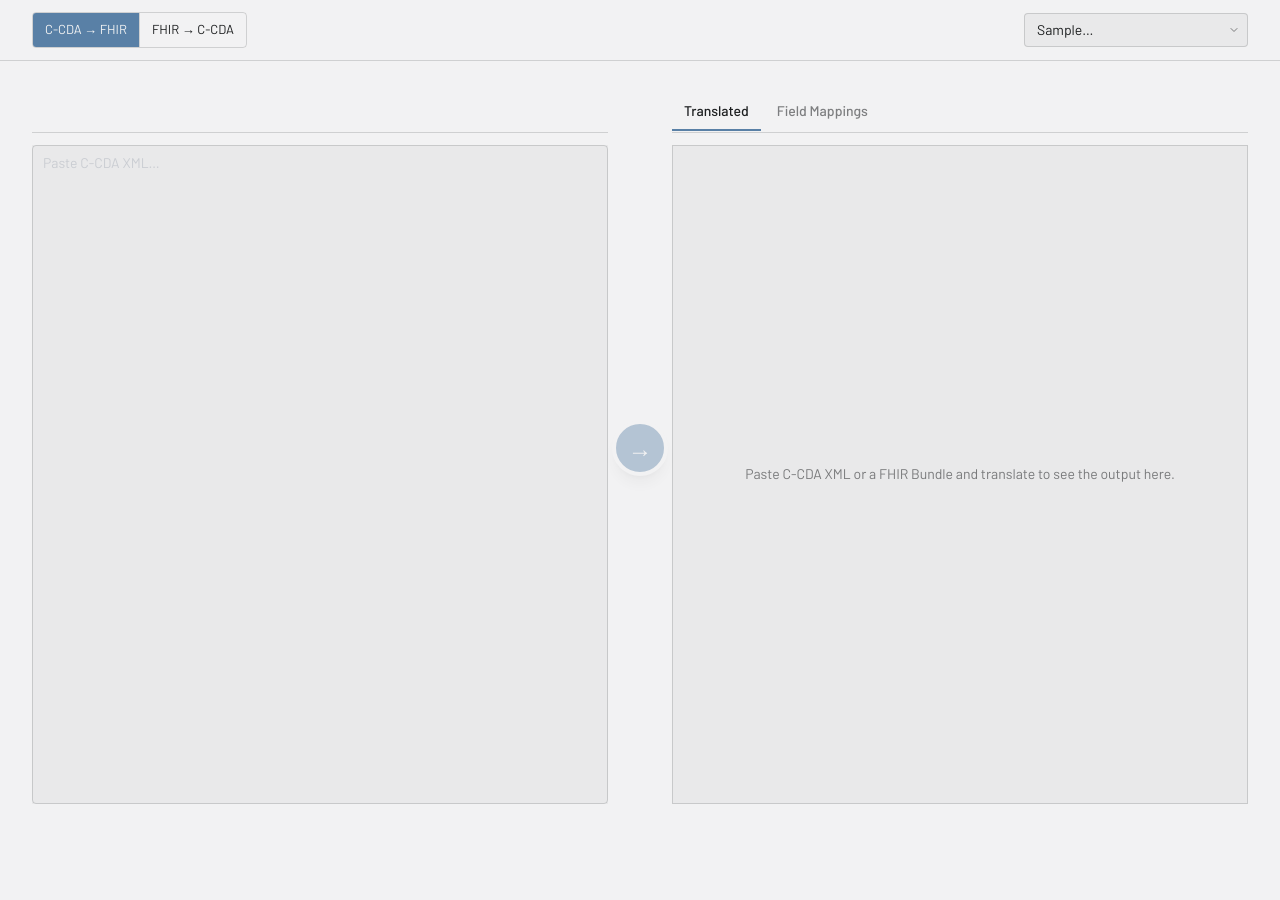
Test: Translator (integration — real cdaToFhir/fhirToCda logic, not mocked) › shows a readable error for invalid FHIR JSON in the fhirToCda direction
Click the radio button labelled "FHIR → C-CDA".
click(192, 30)  # box [139,13,246,46]
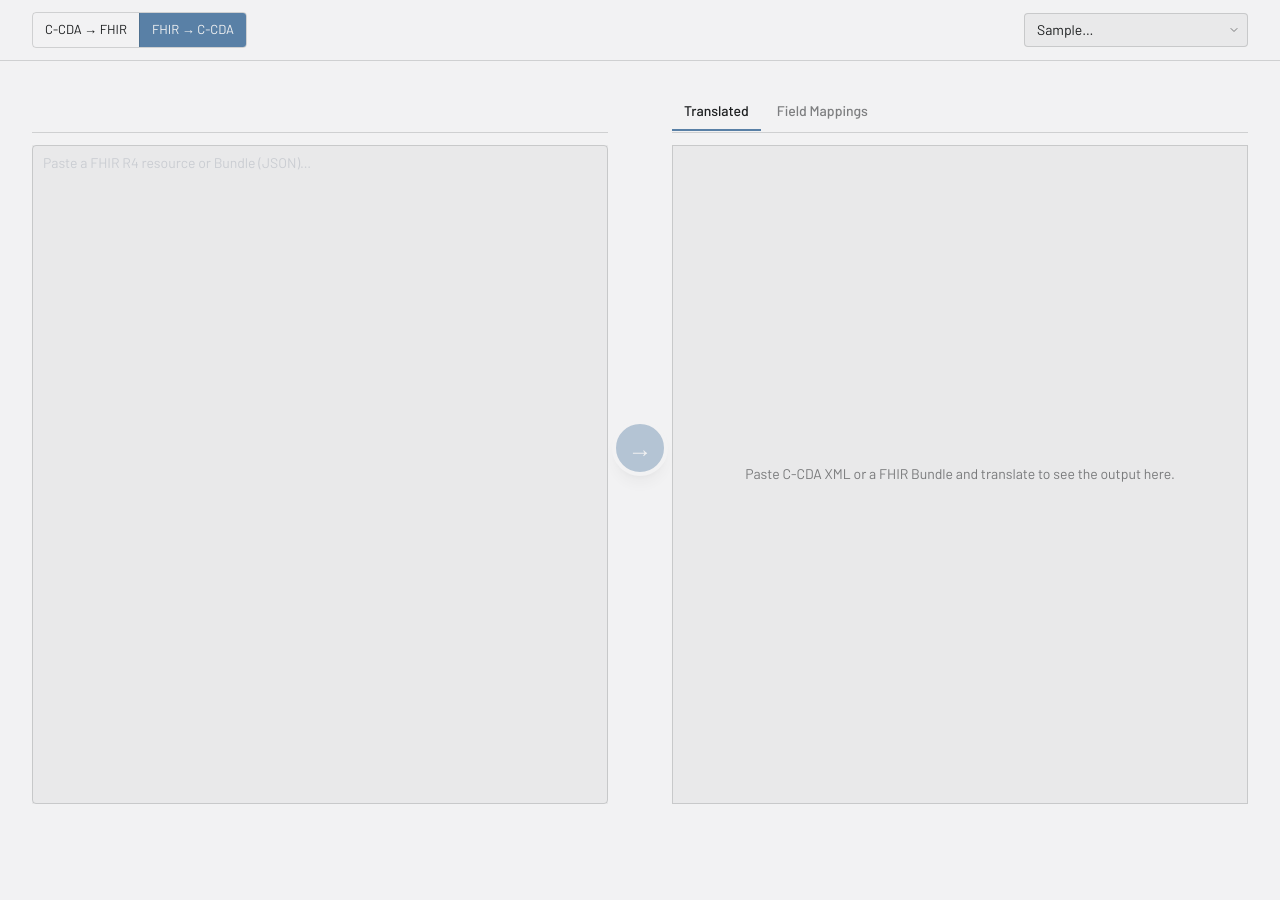
Type "not json" into the text box.
click(320, 474); type("not json")  # box [32,144,608,804]
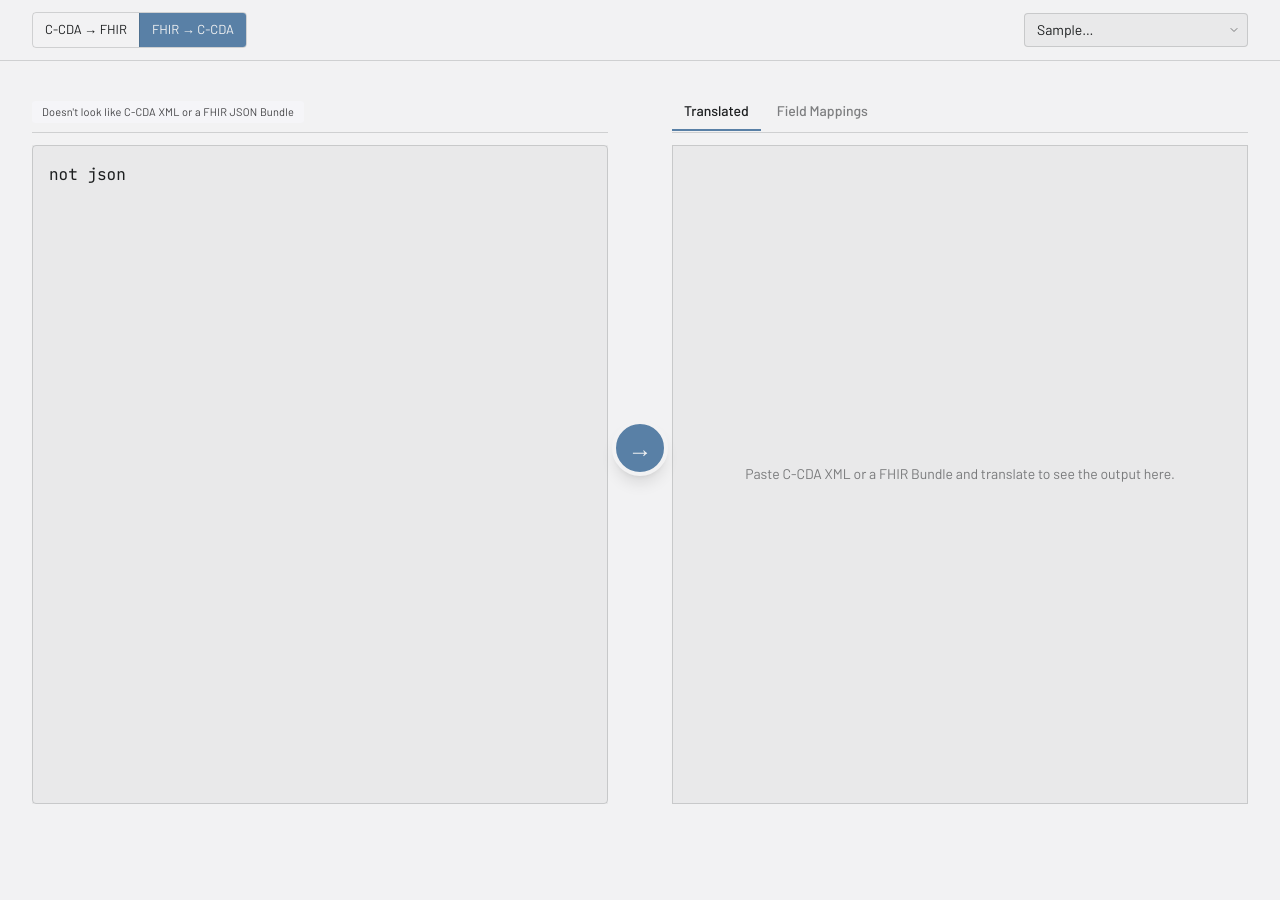
Click the button named "Translate".
click(640, 448)  # box [612,420,668,476]
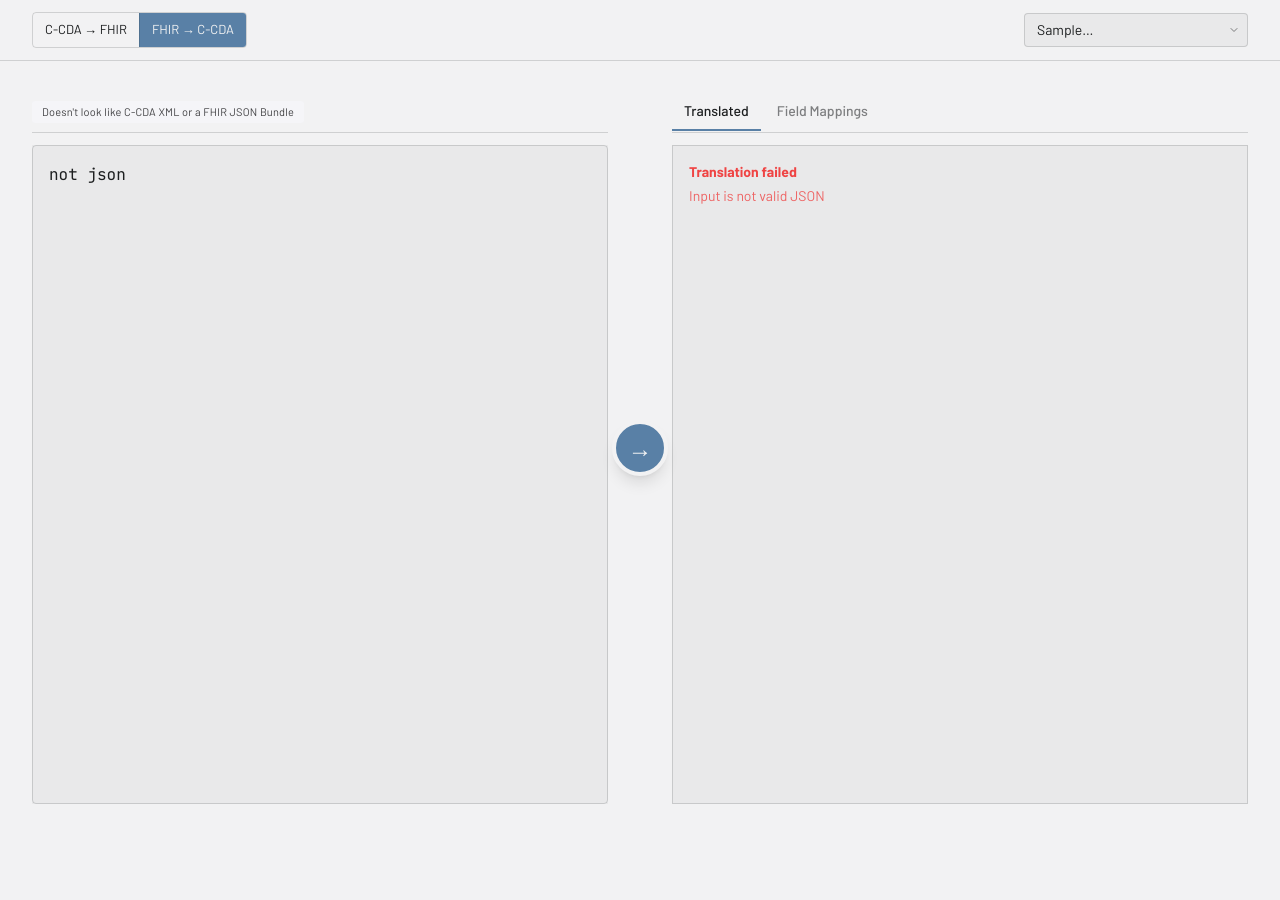
expect the text "Translation failed" is shown: met, box [689,162,797,180]
expect the text "Input is not valid JSON" is shown: met, box [689,186,825,204]
